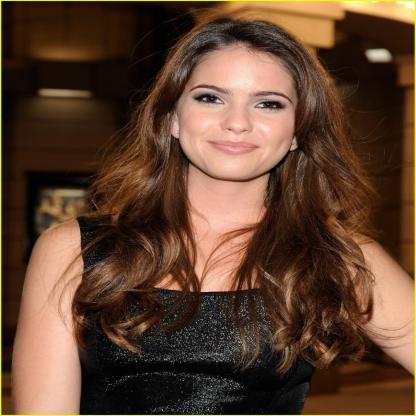long-hair: (64, 183, 374, 260)
